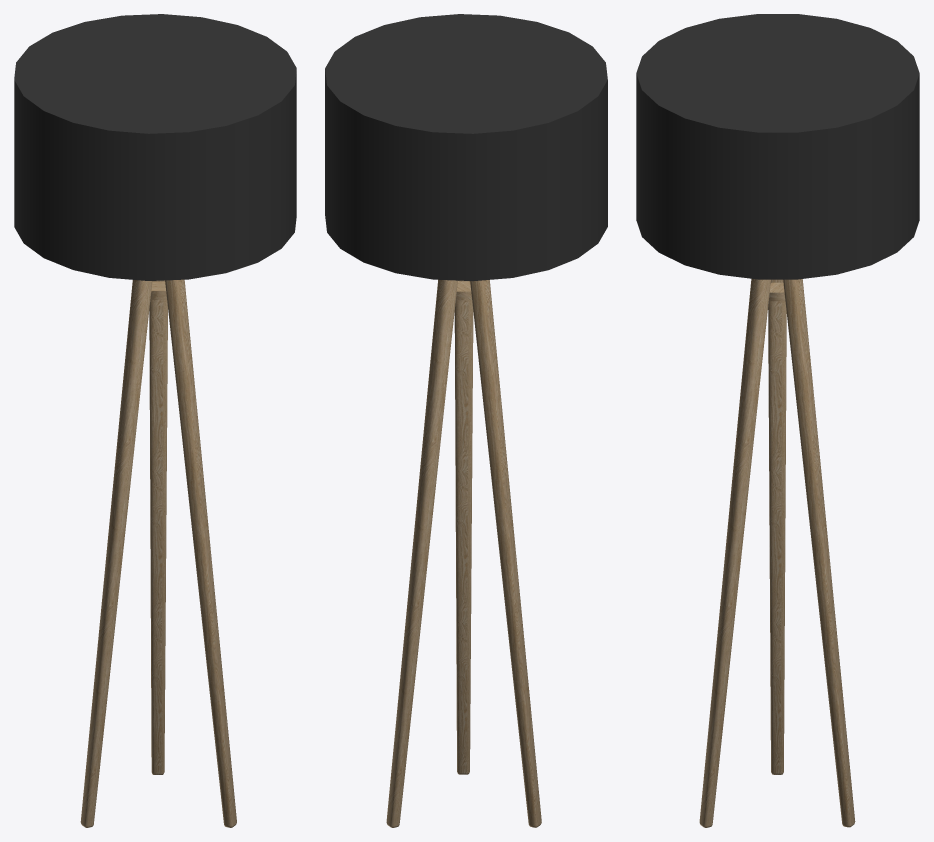
Rendered from floor lamp.FBX.
3 renders of one model, left to right at view 1: azimuth 30°, elevation 25°; view 2: azimuth 150°, elevation 25°; view 3: azimuth 270°, elevation 25°, orthographic.
Parts seen in each view (by area): view 1: floor lamp; view 2: floor lamp; view 3: floor lamp.
Part boxes in pixels (left/top/right/bottom): floor lamp: left=14, top=14, right=296, bottom=827; floor lamp: left=325, top=14, right=607, bottom=827; floor lamp: left=636, top=14, right=919, bottom=827.
Bounding box in the file's own units: 18.44 × 18.63 × 53.24.
